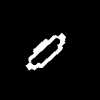chain: (26, 33, 65, 69)
